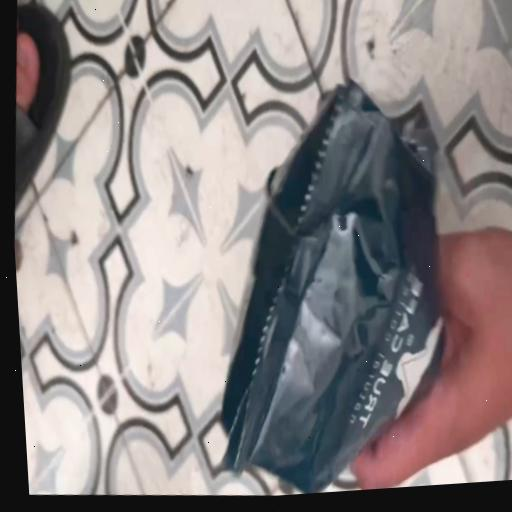cafe_hat: (222, 79, 442, 493)
